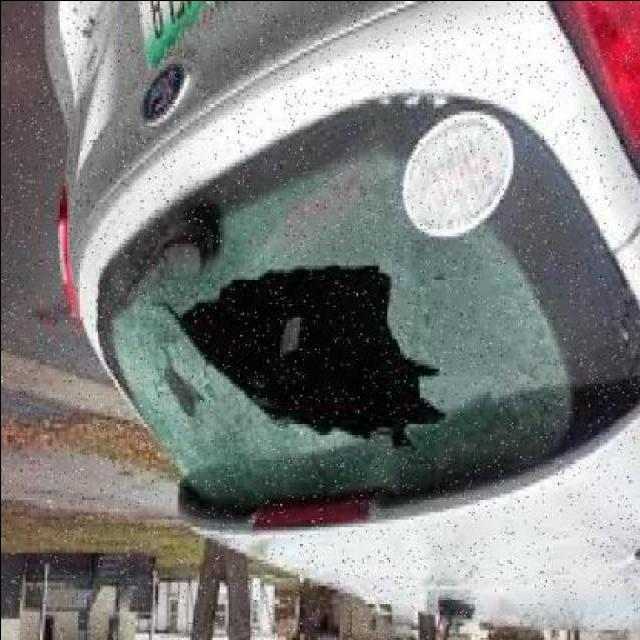Rear-windscreen-Damage: (77, 69, 600, 545)
